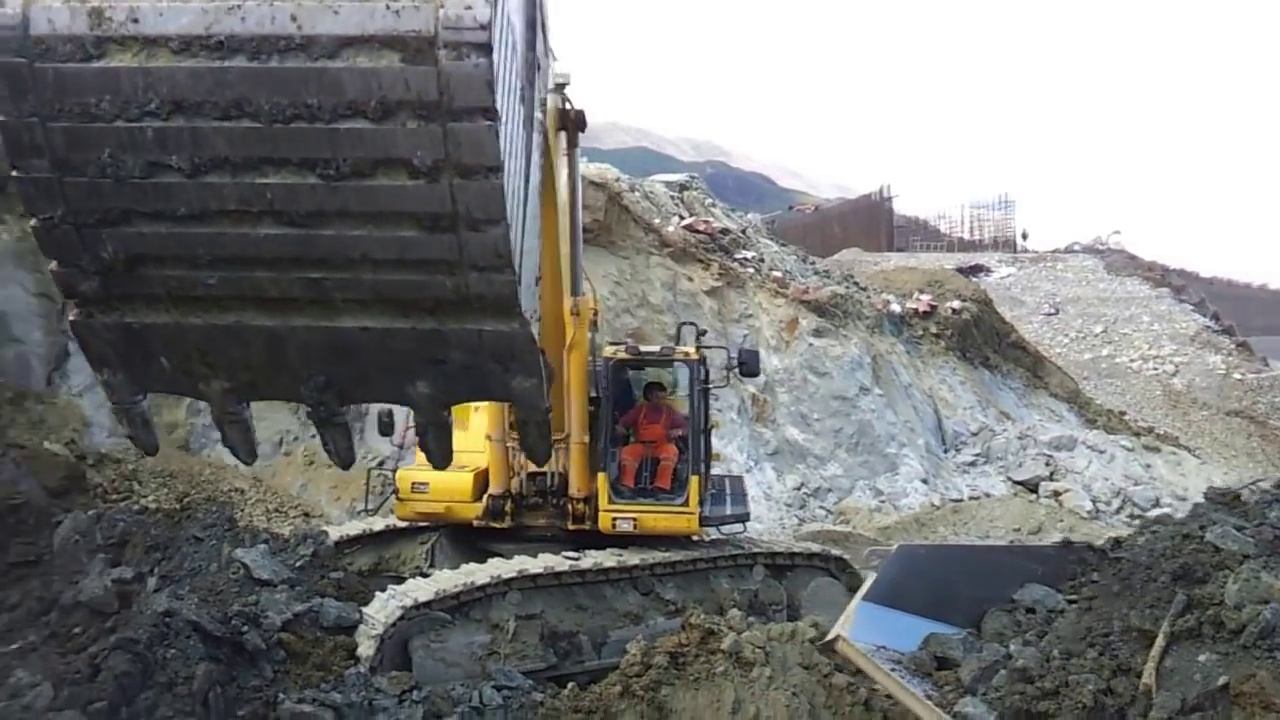excavator: (3, 1, 870, 678)
person: (612, 378, 689, 493)
